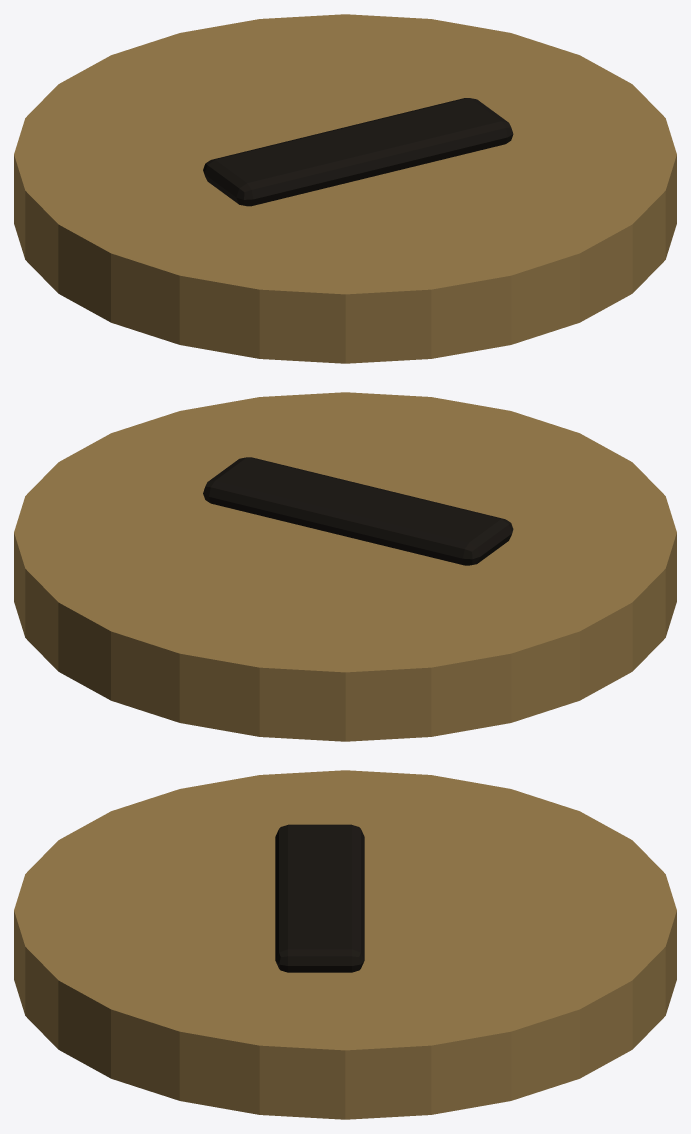
Rendered from Coin.fbx.
The picture shows the model from 3 angles, top to bottom: view 1: azimuth 30°, elevation 25°; view 2: azimuth 150°, elevation 25°; view 3: azimuth 270°, elevation 25°; orthographic projection.
Visible parts, largest first — view 1: coin, coin scar; view 2: coin, coin scar; view 3: coin, coin scar.
Part boxes in pixels (<box>): coin: <box>14,14,676,363</box>; coin scar: <box>203,98,513,206</box>; coin: <box>14,392,676,741</box>; coin scar: <box>203,457,513,565</box>; coin: <box>14,770,676,1119</box>; coin scar: <box>275,824,364,972</box>.
Size of the model in its own units: 5.2 by 0.8 by 5.2.
